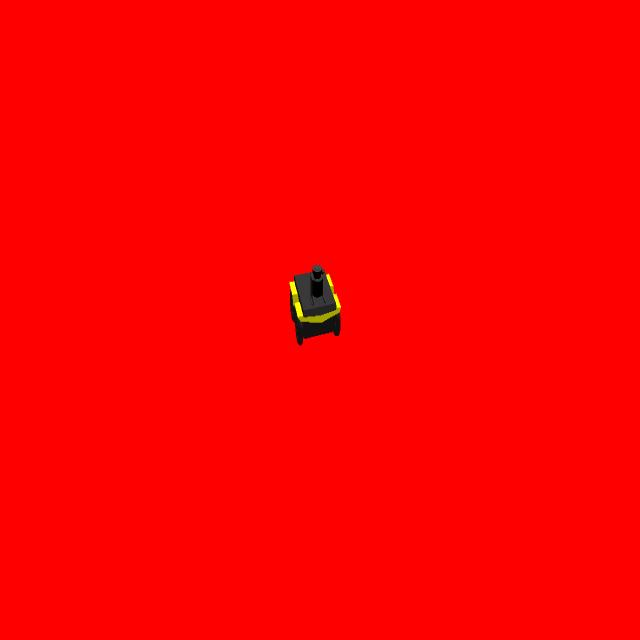jackal: (288, 260, 340, 346)
